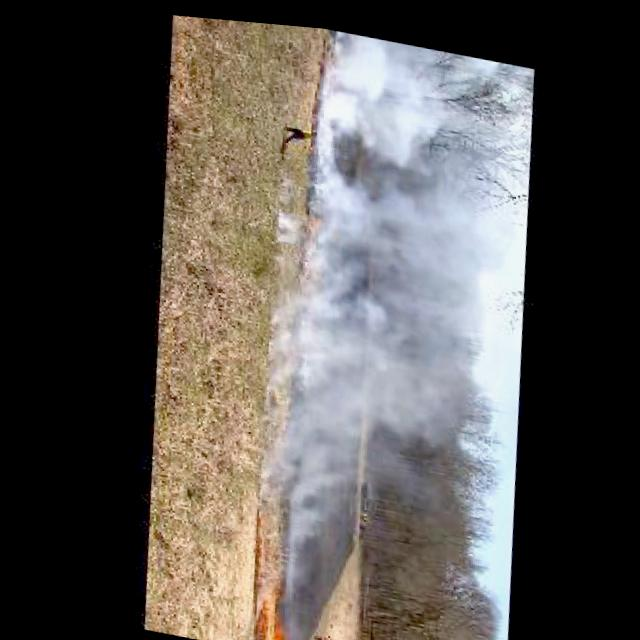helmet: (226, 16, 558, 594), (240, 573, 293, 640)
